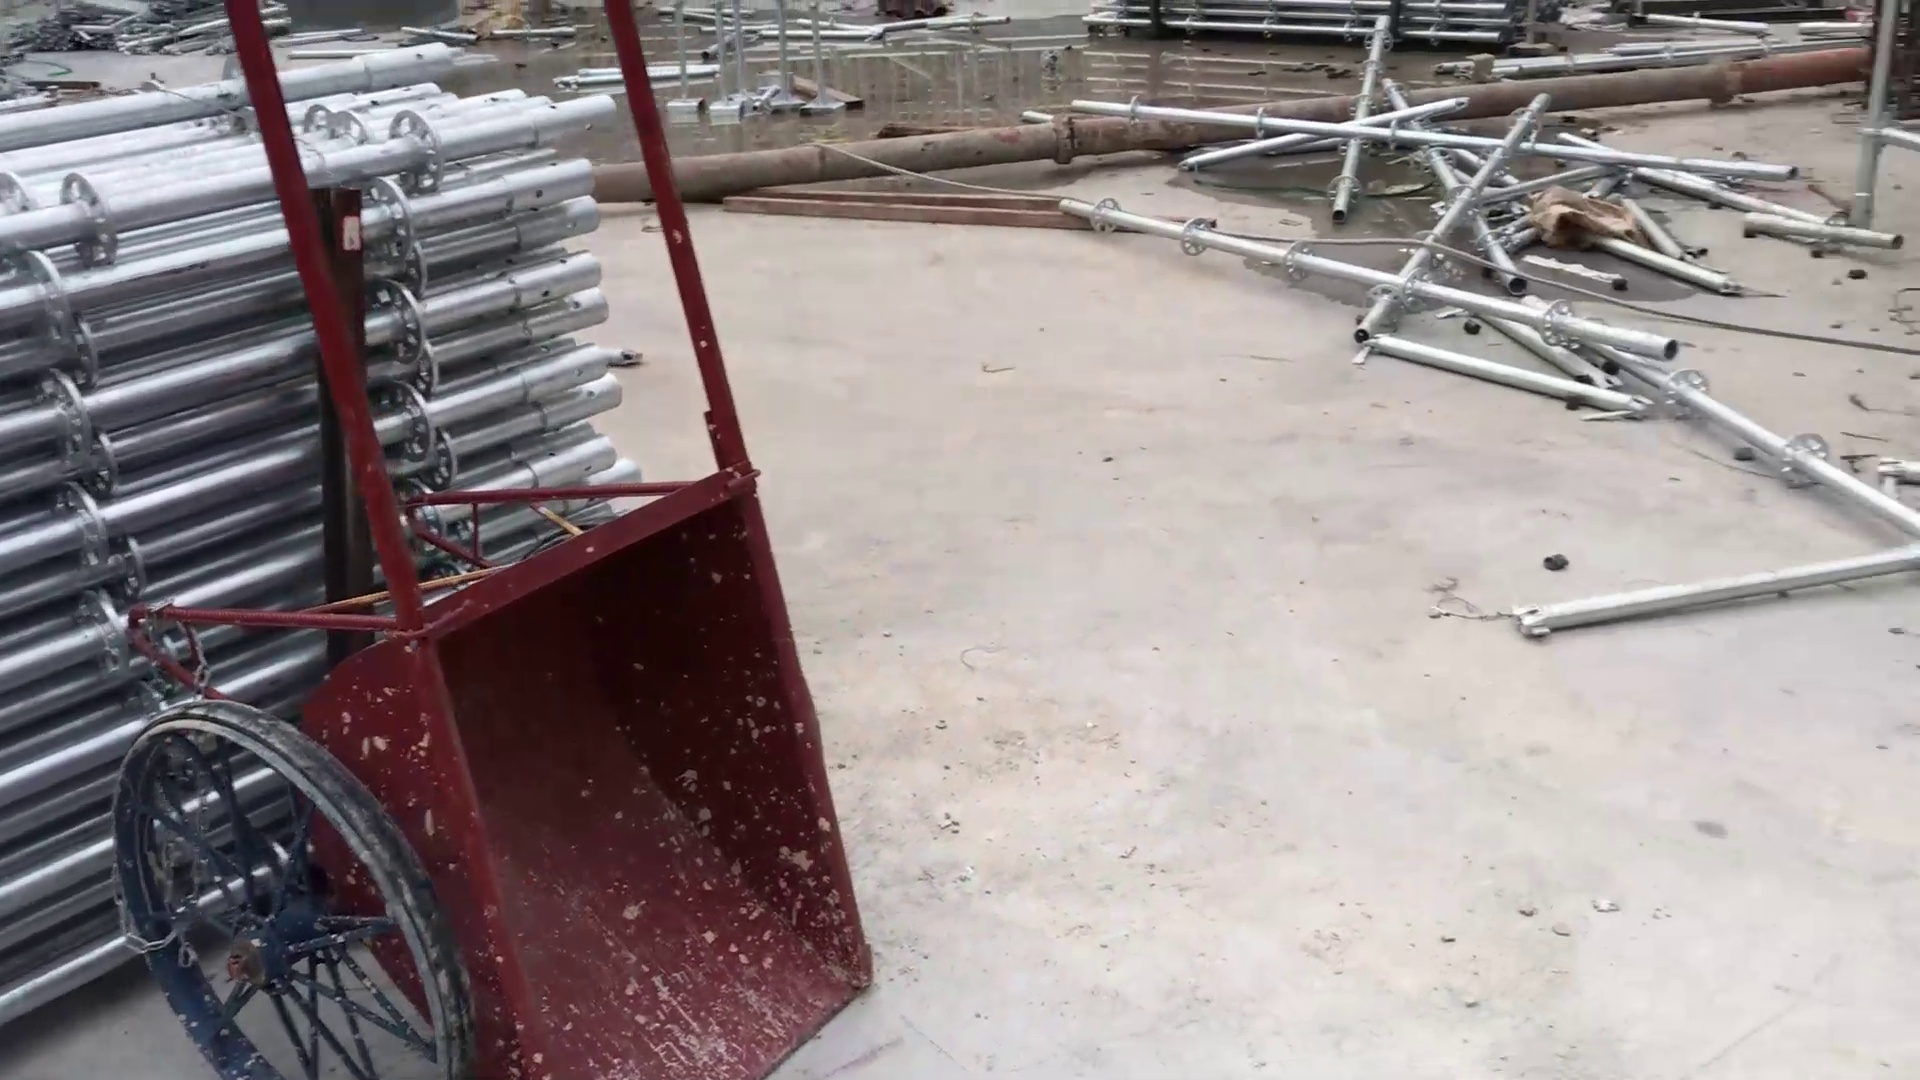handcart: (105, 1, 878, 1077)
scaffold: (1, 50, 622, 564)
